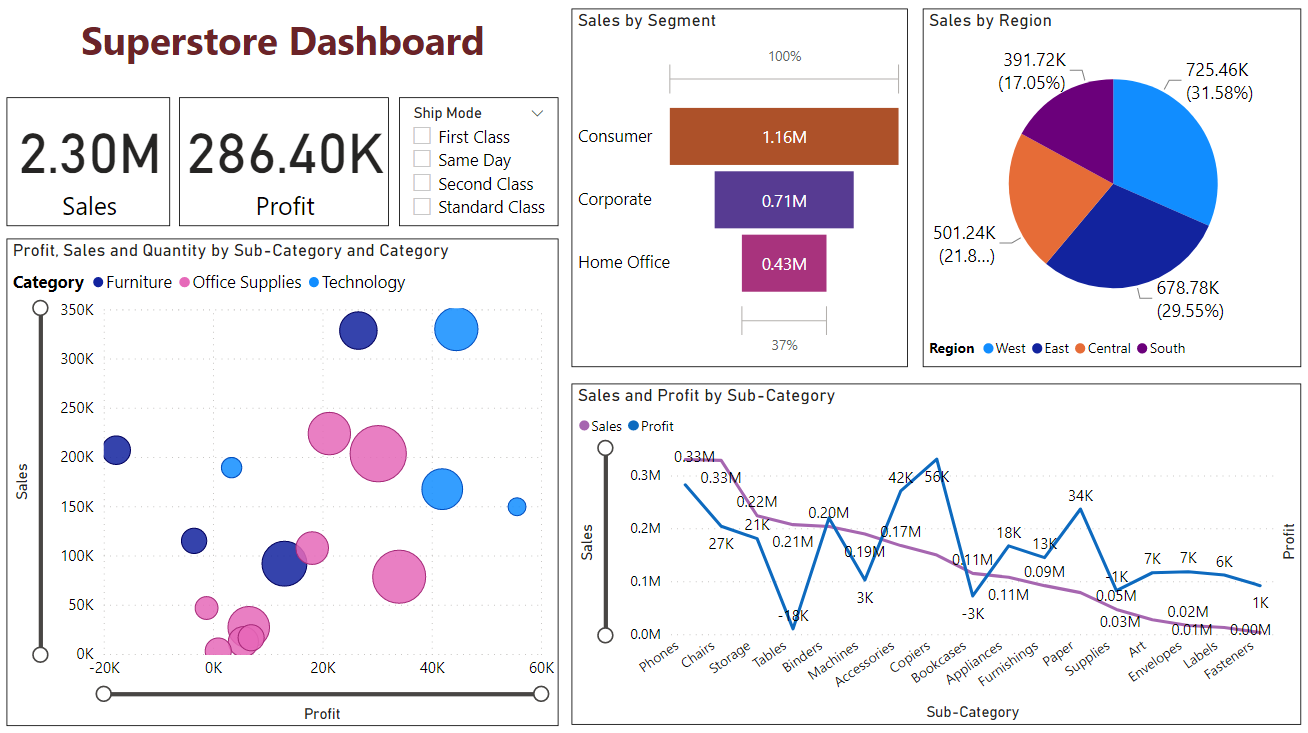

This screenshot's page, from the dashboard's own definition file:
{"tool":"powerbi","page":{"name":"Dashboard","canvas":[1280,720],"ordinal":1},"visuals":[{"type":"card","fields":{"Values":["Sum(SampleSuperstore.Sales)"]},"box":[11.9,97.8,158.5,124.4],"z":0},{"type":"card","fields":{"Values":["Sum(SampleSuperstore.Profit)"]},"box":[179.3,97.8,203,124.4],"z":1000},{"type":"slicer","fields":{"Values":["SampleSuperstore.Ship Mode"]},"box":[392.6,97.8,154.1,124.4],"z":2000},{"type":"pieChart","fields":{"Category":["SampleSuperstore.Region"],"Y":["Sum(SampleSuperstore.Sales)"]},"box":[899.2,12.5,366.5,346.8],"z":3000},{"type":"funnel","fields":{"Category":["SampleSuperstore.Segment"],"Y":["Sum(SampleSuperstore.Sales)"]},"box":[559.6,12.5,325.4,346.8],"z":4000},{"type":"scatterChart","fields":{"Size":["Sum(SampleSuperstore.Quantity)"],"Y":["Sum(SampleSuperstore.Sales)"],"X":["Sum(SampleSuperstore.Profit)"],"Category":["SampleSuperstore.Sub-Category"],"Series":["SampleSuperstore.Category"]},"box":[12.5,234.2,534.5,472],"z":5000},{"type":"lineChart","fields":{"Category":["SampleSuperstore.Sub-Category"],"Y":["Sum(SampleSuperstore.Sales)"],"Y2":["Sum(SampleSuperstore.Profit)"]},"box":[559.6,375.4,706.1,330.7],"z":6000},{"type":"textbox","box":[11.9,11.9,534.8,72.6],"z":7000}]}

Visuals, with their boxes in screenshot pixels (x1, y1, x2, y2), scaled from the page's 1280x720 canvas onto the 1308x733 screenshot:
card - Sum(SampleSuperstore.Sales): bbox(12, 100, 174, 226)
card - Sum(SampleSuperstore.Profit): bbox(183, 100, 391, 226)
slicer - SampleSuperstore.Ship Mode: bbox(401, 100, 559, 226)
pieChart - SampleSuperstore.Region x Sum(SampleSuperstore.Sales): bbox(919, 13, 1293, 366)
funnel - SampleSuperstore.Segment x Sum(SampleSuperstore.Sales): bbox(572, 13, 904, 366)
scatterChart - Sum(SampleSuperstore.Quantity) x Sum(SampleSuperstore.Sales): bbox(13, 238, 559, 719)
lineChart - SampleSuperstore.Sub-Category x Sum(SampleSuperstore.Sales): bbox(572, 382, 1293, 719)
textbox: bbox(12, 12, 559, 86)
